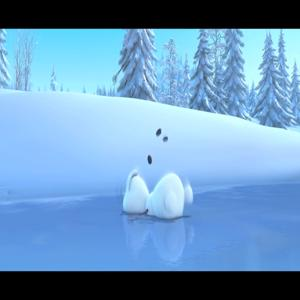olaf: (114, 163, 196, 228)
